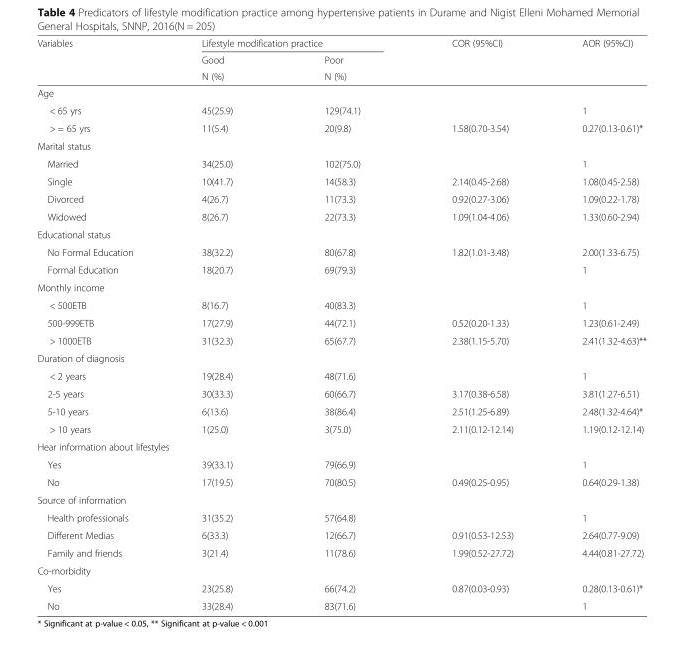table: (36, 37, 646, 611)
table column: (405, 37, 547, 611), (36, 37, 166, 611), (277, 37, 405, 611), (166, 37, 277, 611), (547, 37, 646, 611)
table column header: (36, 37, 646, 84)
table projected row header: (36, 136, 646, 154), (36, 278, 646, 296), (36, 437, 646, 455), (36, 490, 646, 508), (36, 561, 646, 579), (36, 84, 646, 101), (36, 225, 646, 242), (36, 349, 646, 366)
table row: (36, 101, 646, 119), (36, 136, 646, 154), (36, 154, 646, 172), (36, 189, 646, 207), (36, 207, 646, 225), (36, 242, 646, 260), (36, 260, 646, 278), (36, 278, 646, 296), (36, 313, 646, 331), (36, 331, 646, 349), (36, 366, 646, 384), (36, 384, 646, 402), (36, 419, 646, 437), (36, 437, 646, 455), (36, 455, 646, 473), (36, 490, 646, 508), (36, 508, 646, 526), (36, 543, 646, 561), (36, 561, 646, 579), (36, 50, 646, 67), (36, 67, 646, 84), (36, 84, 646, 101), (36, 119, 646, 136), (36, 172, 646, 189), (36, 225, 646, 242), (36, 296, 646, 313), (36, 349, 646, 366), (36, 402, 646, 419), (36, 473, 646, 490), (36, 526, 646, 543), (36, 579, 646, 596), (36, 596, 646, 611), (36, 37, 646, 50)
table spanning cell: (405, 37, 547, 84), (36, 37, 166, 84), (547, 37, 646, 84), (277, 50, 405, 84), (166, 50, 277, 84), (166, 37, 405, 50)
